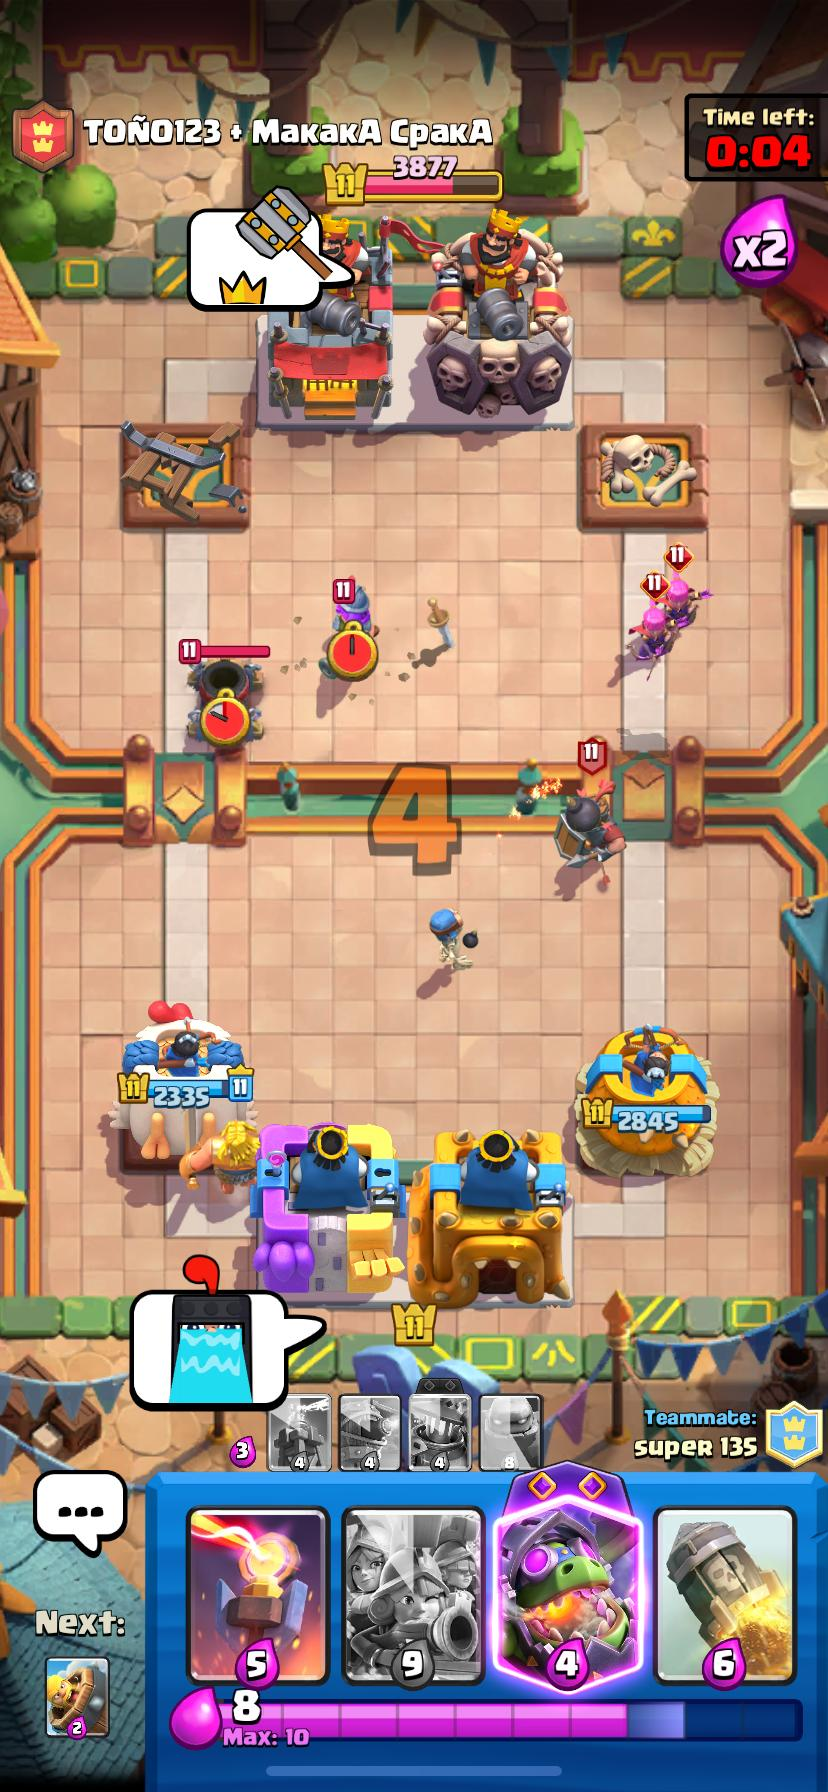EEVArcher: (627, 600, 680, 672), (660, 571, 704, 632)
EKingTower: (424, 209, 570, 418), (266, 216, 395, 407)
EMorter: (188, 658, 260, 735)
EMusk: (320, 581, 376, 671)
ERoyalR: (555, 792, 624, 866)
OBomber: (430, 907, 476, 970)
ORoyalKnight: (181, 1123, 262, 1197)
OwnKingTower: (408, 1129, 571, 1306), (250, 1123, 401, 1294)
OwnPrincessTower: (576, 1025, 716, 1175), (110, 1015, 252, 1161)
TowerDown: (121, 423, 250, 527), (580, 423, 706, 528)
